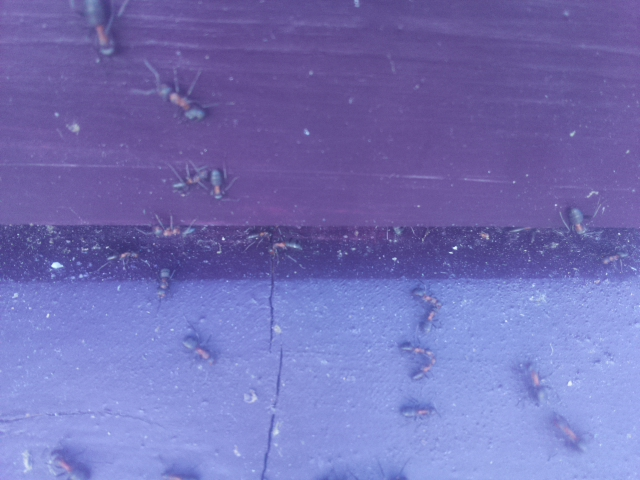ant: (151, 69, 214, 134), (74, 0, 123, 59), (409, 275, 445, 339), (165, 160, 217, 199), (544, 413, 591, 455), (176, 331, 218, 368), (42, 449, 92, 479), (522, 361, 549, 405), (205, 160, 229, 207), (564, 203, 594, 239), (154, 266, 176, 301)
